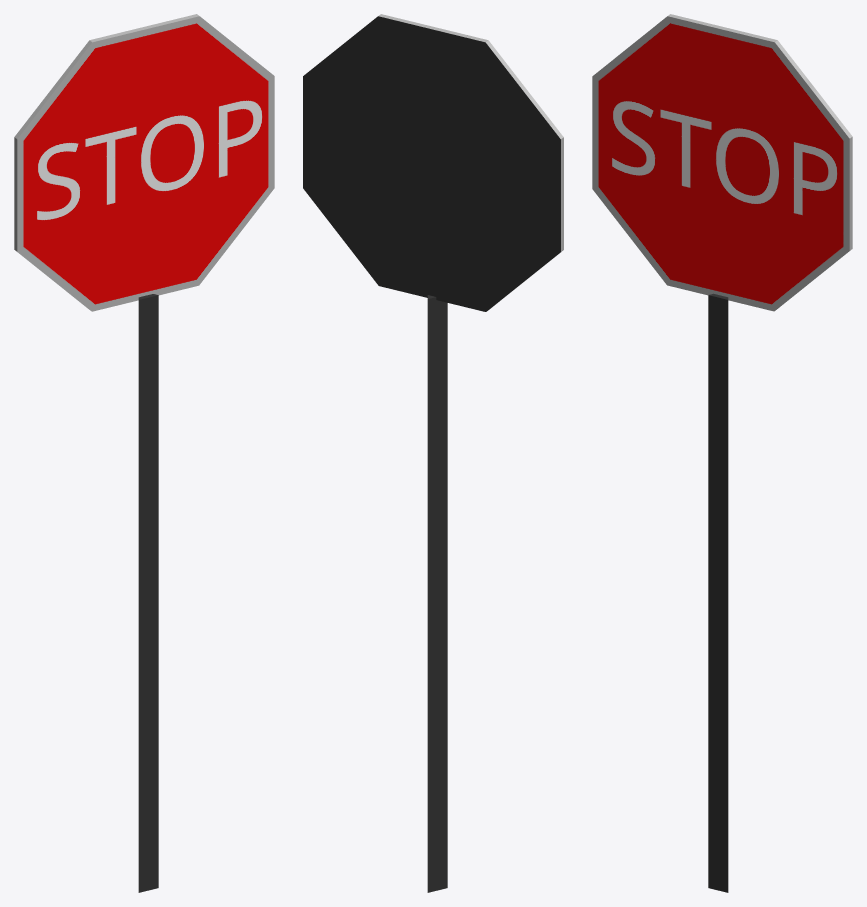
Rendered from stop_sign.obj.
3 renders of one model, left to right at view 1: azimuth 30°, elevation 25°; view 2: azimuth 150°, elevation 25°; view 3: azimuth 330°, elevation 25°, orthographic.
Parts seen in each view (by area): view 1: StopSign; view 2: StopSign; view 3: StopSign.
Part boxes in pixels (bbox=[...]): StopSign: bbox=[14, 14, 274, 892]; StopSign: bbox=[303, 14, 563, 892]; StopSign: bbox=[592, 14, 852, 892].
Size of the model in its own units: 2 by 6.38 by 0.135.
1 material, 1 textured.
